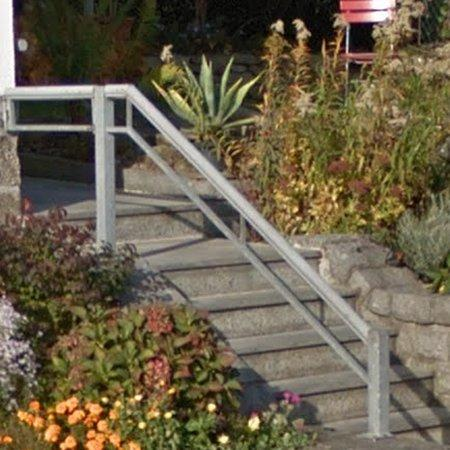stairs: (117, 195, 450, 450)
